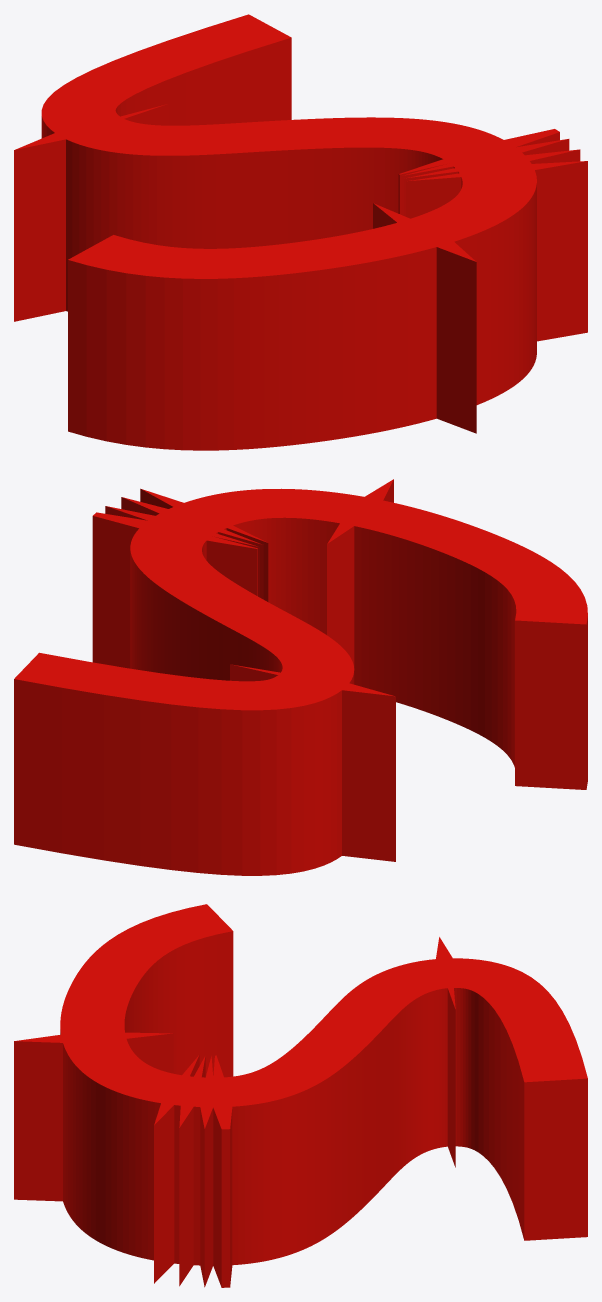
3 renders of one model, top to bottom at view 1: azimuth 30°, elevation 25°; view 2: azimuth 150°, elevation 25°; view 3: azimuth 270°, elevation 25°, orthographic. The views are drawn at different scales.
Parts seen in each view (by area): view 1: NurbsPath.002; view 2: NurbsPath.002; view 3: NurbsPath.002.
Boxes of the visible parts, bbox=[...] form: NurbsPath.002: bbox=[14, 14, 587, 450]; NurbsPath.002: bbox=[14, 479, 587, 875]; NurbsPath.002: bbox=[14, 904, 587, 1287].
Bounding box in the file's own units: 152 × 50 × 164.
